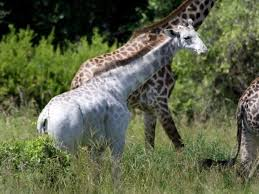Jirafa: (141, 13, 229, 86)
